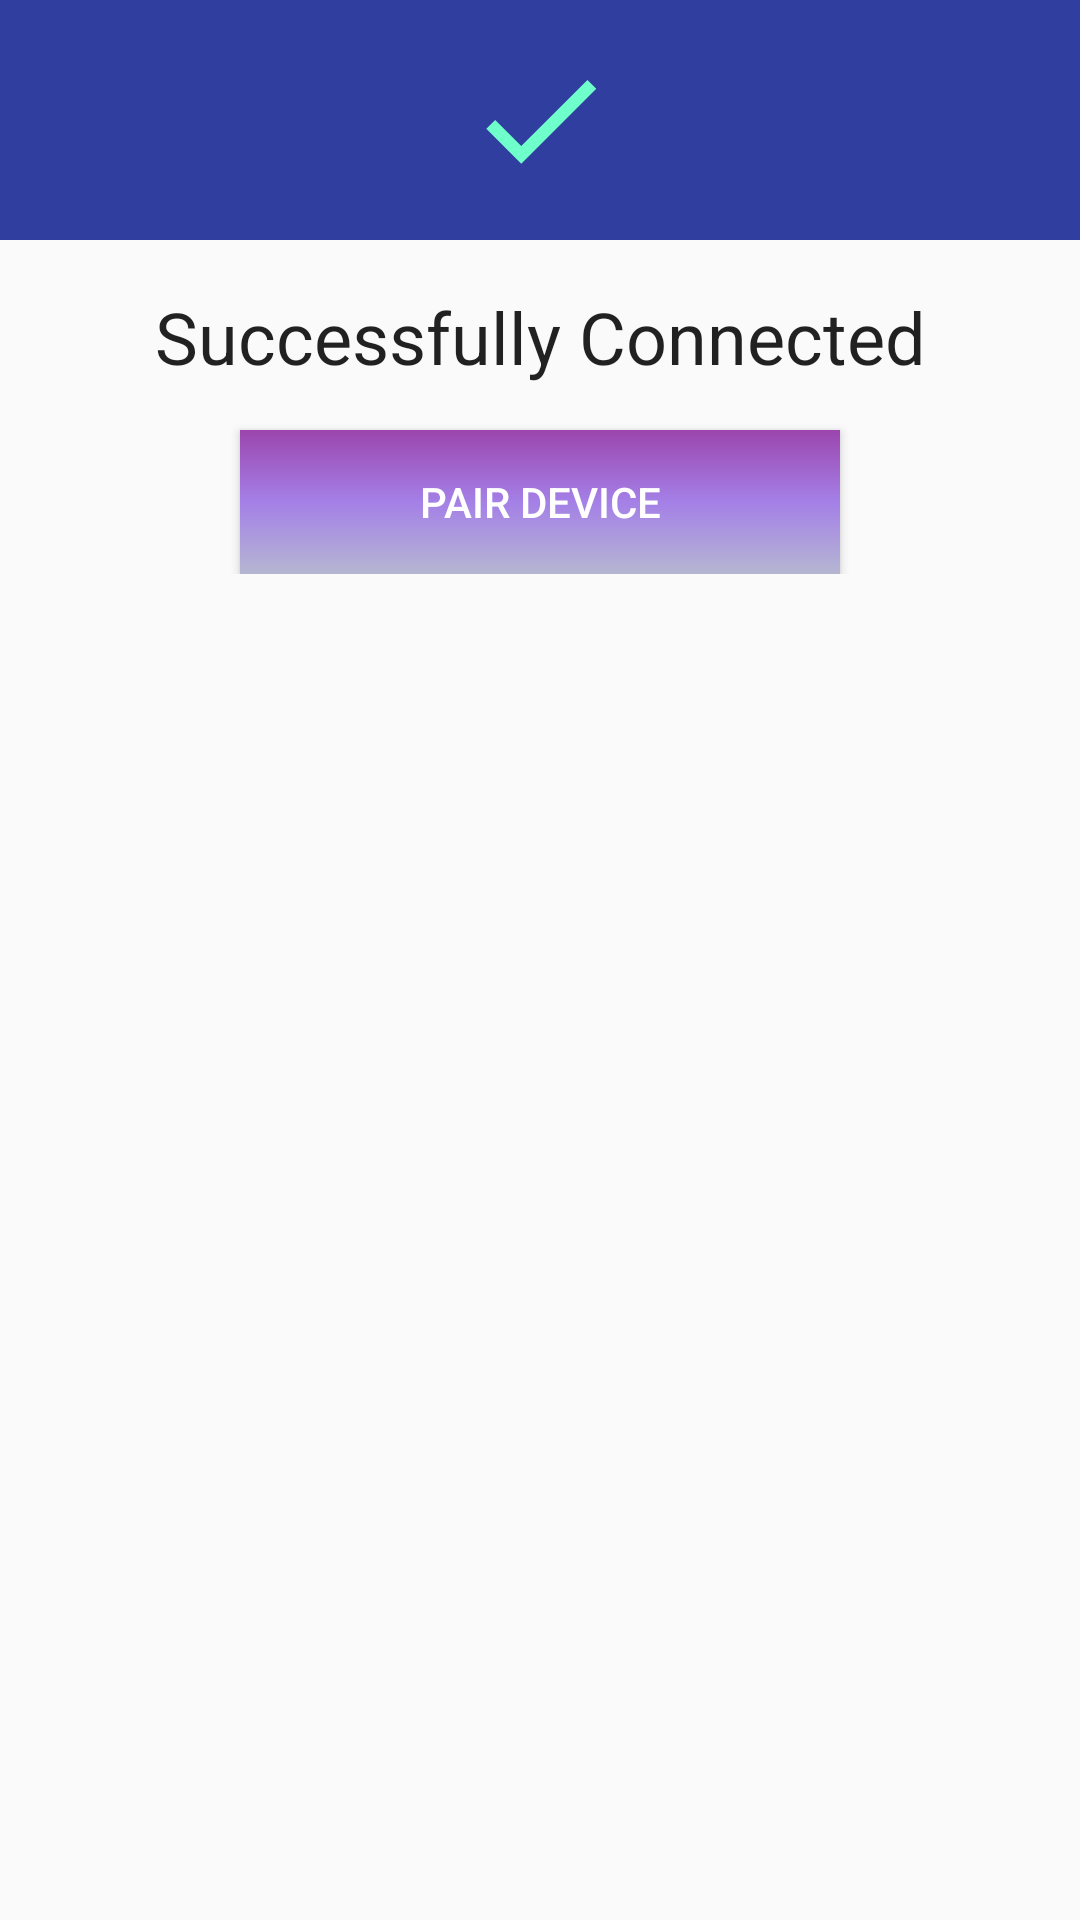

Named icons in this screenshot (1080px x 1920px) and their centers, (x,y):
right: (541,122)
